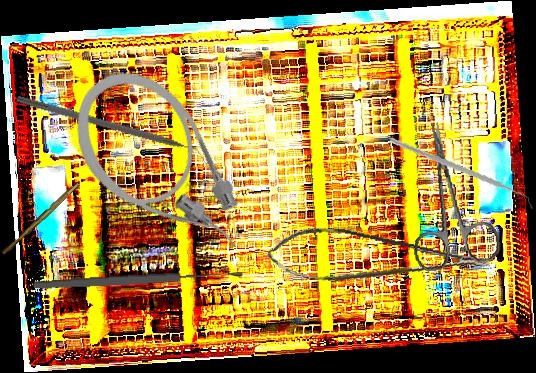Cannula: (50, 48, 268, 291)
Chopper: (388, 118, 534, 230), (12, 94, 212, 168)
Iris Scissors: (394, 115, 504, 274)
Micro Scissor: (262, 215, 493, 310)
Scalpel Handle: (1, 180, 80, 257)
Surgical Spoon: (31, 268, 245, 292)
